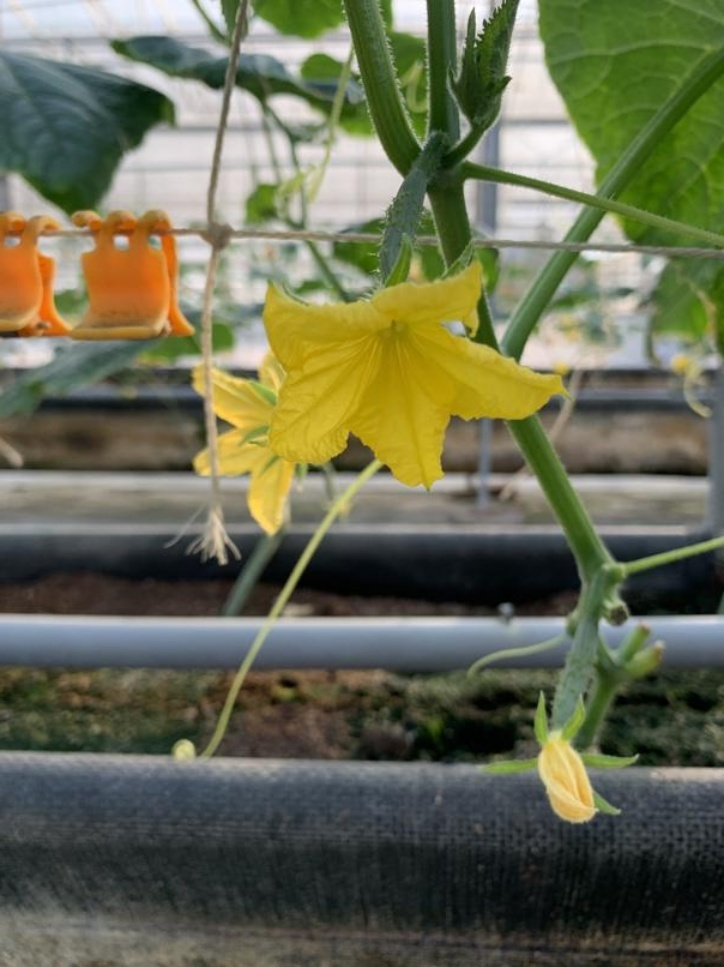flowering: (247, 155, 561, 495)
